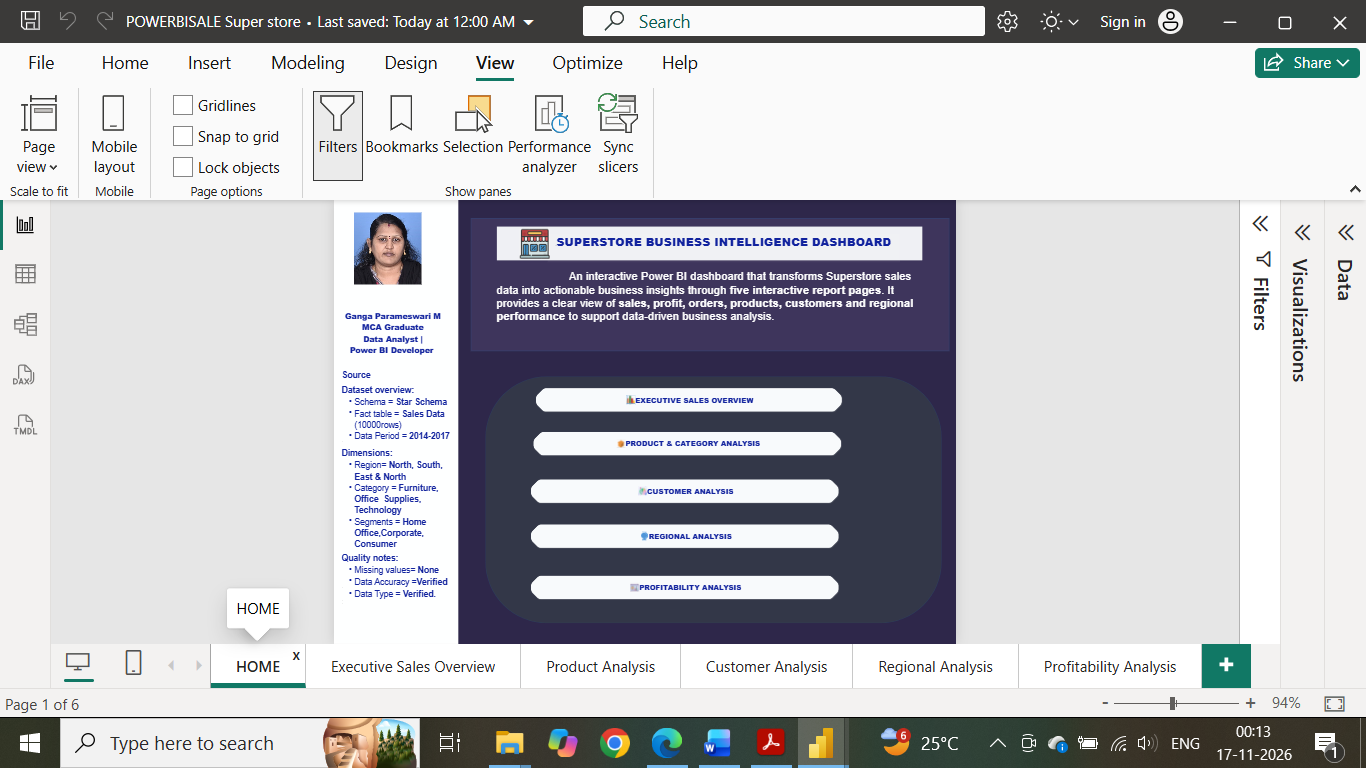

The dashboard page shown, as its layout file describes it:
{"tool":"powerbi","page":{"name":"HOME","canvas":[7000,5000],"ordinal":0},"visuals":[{"type":"shape","box":[0,0,1400,5000],"z":0},{"type":"textbox","box":[1800.1,0,295,1076],"z":1000},{"type":"shape","box":[1521.7,180.1,5429.6,1539.7],"z":2000},{"type":"shape","box":[1701.8,1990,5141.5,2782.4],"z":3000},{"type":"shape","box":[220,140,760,810],"z":4000},{"type":"image","box":[220,140,760,810],"z":5000},{"type":"pageNavigator","box":[1641.9,1350,200,50],"z":6000},{"type":"actionButton","title":"EXECUTIVE","box":[2269.1,2107,3460,280],"z":7000},{"type":"pageNavigator","box":[0,0,200,50],"z":8000},{"type":"actionButton","box":[2233.1,2611.3,3480,280],"z":9000},{"type":"actionButton","box":[2215.1,3133.5,3480,280],"z":10000},{"type":"actionButton","box":[2215.1,3646.8,3480,280],"z":11000},{"type":"actionButton","box":[2215.1,4223.1,3480,280],"z":12000},{"type":"actionButton","box":[1836.9,297.1,4799.3,387.2],"z":13000},{"type":"textbox","box":[1836.9,792.4,4871.4,720.3],"z":14000},{"type":"textbox","box":[45,1233.6,1242.6,594.3],"z":15000},{"type":"textbox","box":[84.5,1914.5,1238.8,3012.5],"z":16000},{"type":"textbox","box":[2407.2,380.1,3960,320],"z":20000},{"type":"image","box":[2069.3,323.8,380.1,337.8],"z":22001}]}

Visuals, with their boxes on the page's 7000x5000 design canvas (x1, y1, x2, y2). These are canvas units, not pixel positions in the 1366x768 screenshot, which may show the page scaled, cropped or inside an application window:
shape: x1=0 y1=0 x2=1400 y2=5000
textbox: x1=1800 y1=0 x2=2095 y2=1076
shape: x1=1522 y1=180 x2=6951 y2=1720
shape: x1=1702 y1=1990 x2=6843 y2=4772
shape: x1=220 y1=140 x2=980 y2=950
image: x1=220 y1=140 x2=980 y2=950
pageNavigator: x1=1642 y1=1350 x2=1842 y2=1400
"EXECUTIVE" actionButton: x1=2269 y1=2107 x2=5729 y2=2387
pageNavigator: x1=0 y1=0 x2=200 y2=50
actionButton: x1=2233 y1=2611 x2=5713 y2=2891
actionButton: x1=2215 y1=3134 x2=5695 y2=3414
actionButton: x1=2215 y1=3647 x2=5695 y2=3927
actionButton: x1=2215 y1=4223 x2=5695 y2=4503
actionButton: x1=1837 y1=297 x2=6636 y2=684
textbox: x1=1837 y1=792 x2=6708 y2=1513
textbox: x1=45 y1=1234 x2=1288 y2=1828
textbox: x1=84 y1=1914 x2=1323 y2=4927
textbox: x1=2407 y1=380 x2=6367 y2=700
image: x1=2069 y1=324 x2=2449 y2=662
